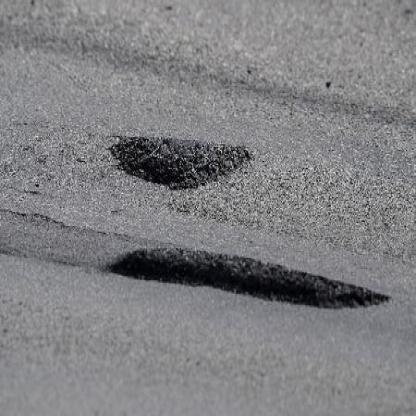pothole: (105, 246, 393, 313), (109, 133, 254, 192)
